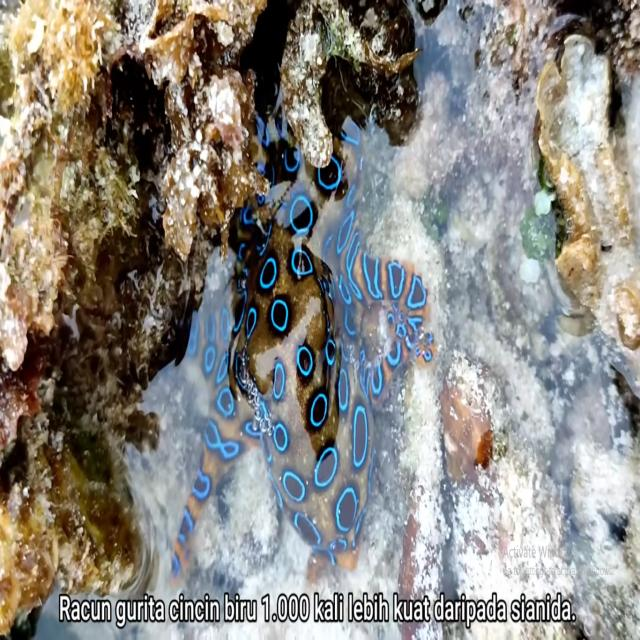blue_ringed_octopus: (169, 103, 435, 585)
